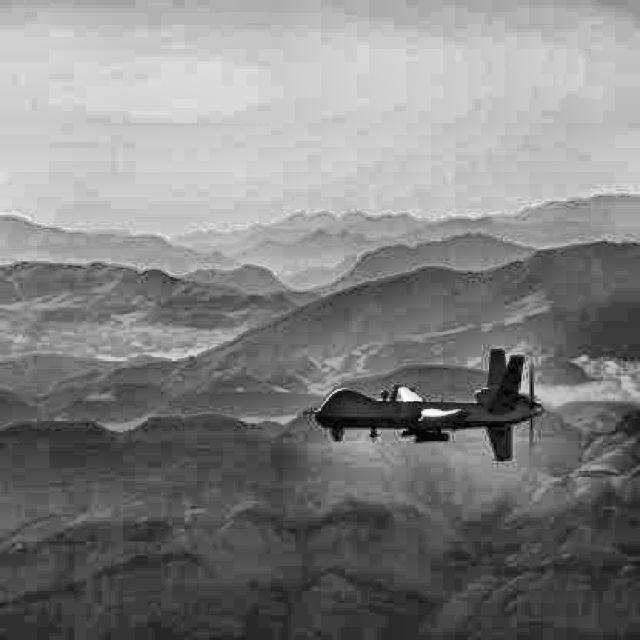MQ9: (302, 348, 543, 462)
